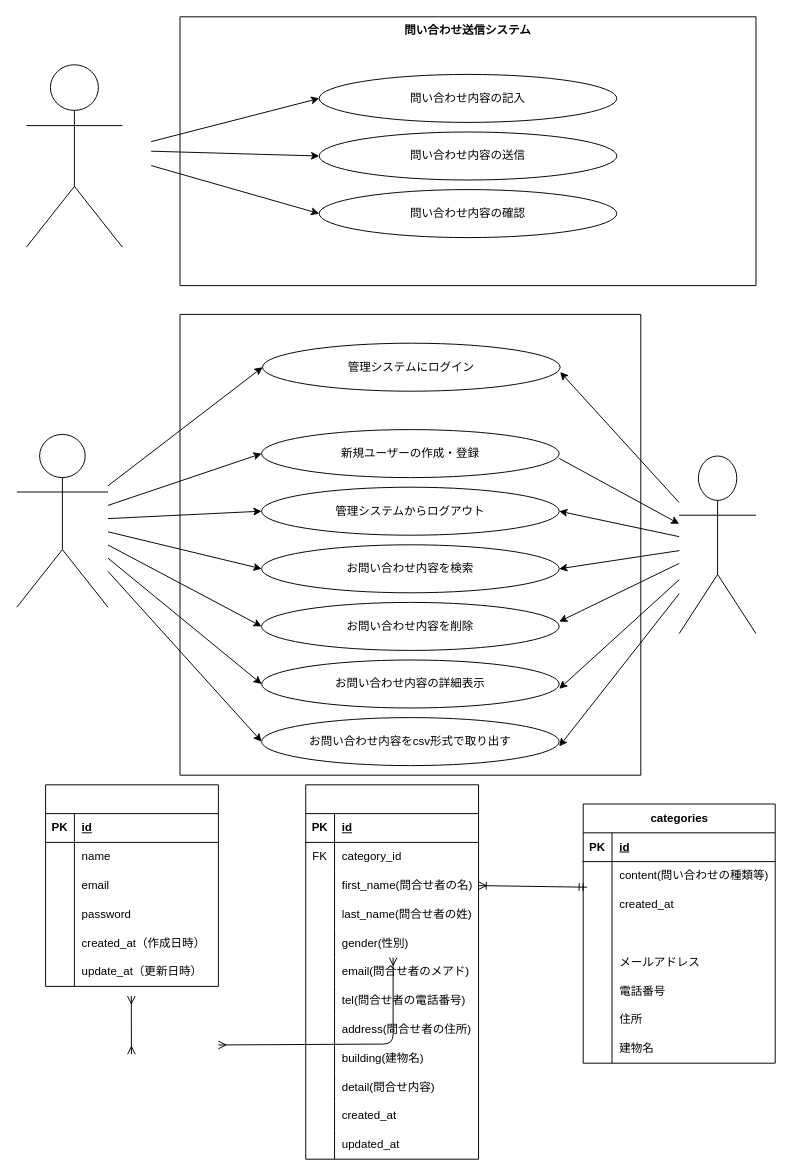
This 792x1176 diagram has some shape labels left out. The shapes that lost their labels are listed below. From the top down, each one's box as (x1, y1, x2, y2) in pixels, then its label:
(25, 64, 122, 247): 利用者
(16, 433, 108, 607): 管理者
(179, 313, 641, 775): 問い合わせ管理システム
(678, 455, 756, 634): 新規管理者
(45, 784, 218, 986): users
(305, 784, 479, 1159): contacts
